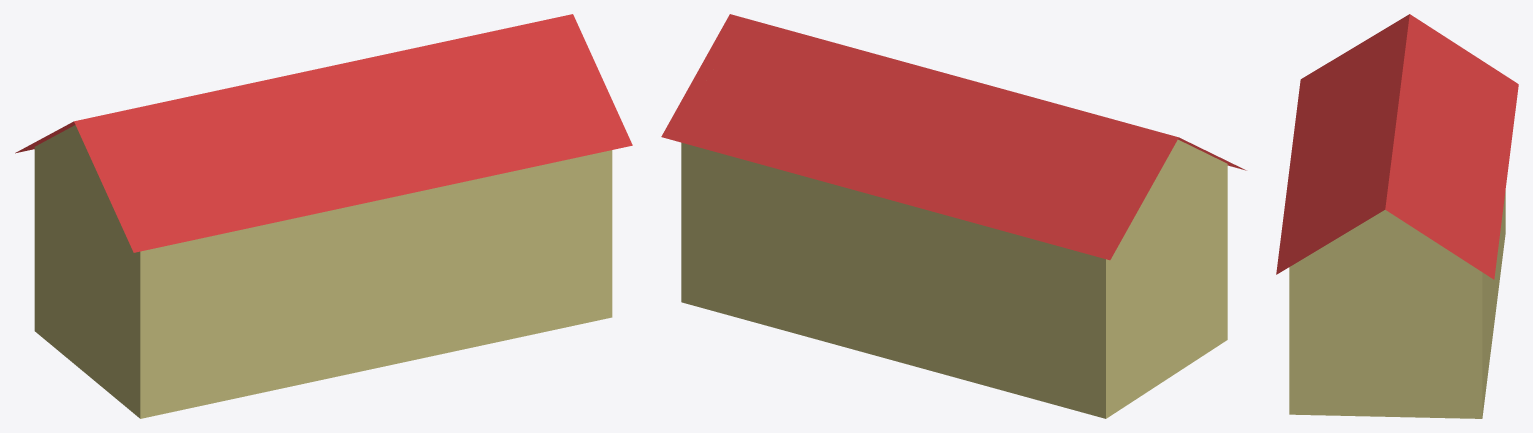
3 views of the same model, side by side, from view 1: azimuth 30°, elevation 25°; view 2: azimuth 150°, elevation 25°; view 3: azimuth 270°, elevation 25° (orthographic). The views are drawn at different scales.
Parts seen in each view (by area): view 1: group_5, group_3, group_4; view 2: group_5, group_3, group_4; view 3: group_3, group_5, group_4.
Part boxes in pixels (x1,y1,x2,y2): group_5: (34, 125, 612, 418); group_3: (26, 14, 632, 252); group_4: (15, 118, 106, 160); group_5: (681, 139, 1227, 418); group_3: (681, 17, 1188, 259); group_4: (661, 14, 1246, 259); group_3: (1276, 14, 1518, 274); group_5: (1289, 191, 1505, 418); group_4: (1375, 14, 1518, 279).
Size of the model in its own units: 28.29 by 14.46 by 13.97.
